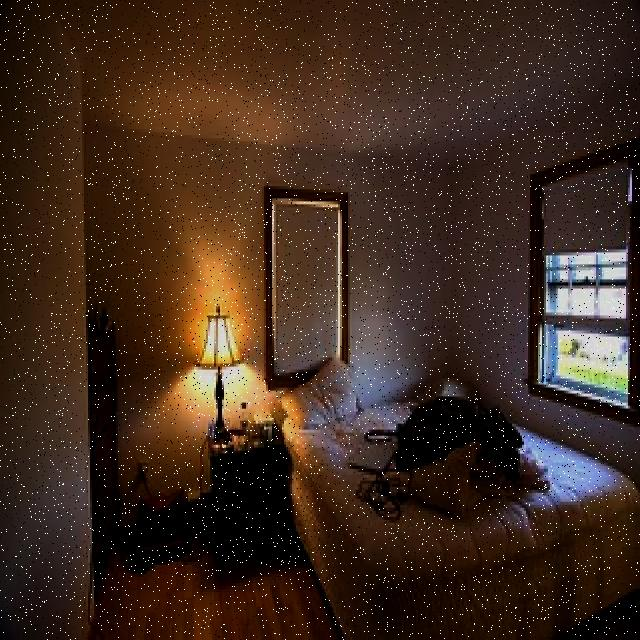bed: (286, 351, 640, 640)
